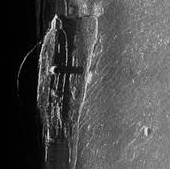ship: (33, 12, 69, 163)
